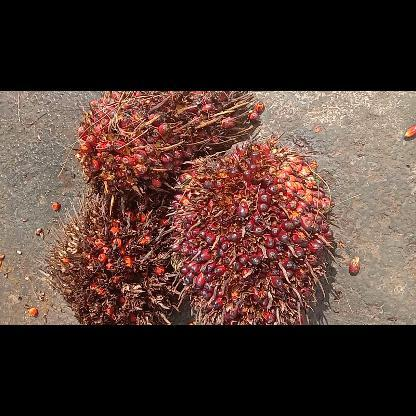TBS masak: (162, 136, 336, 324), (75, 91, 257, 213)
Terlalu masak: (39, 190, 185, 324)
